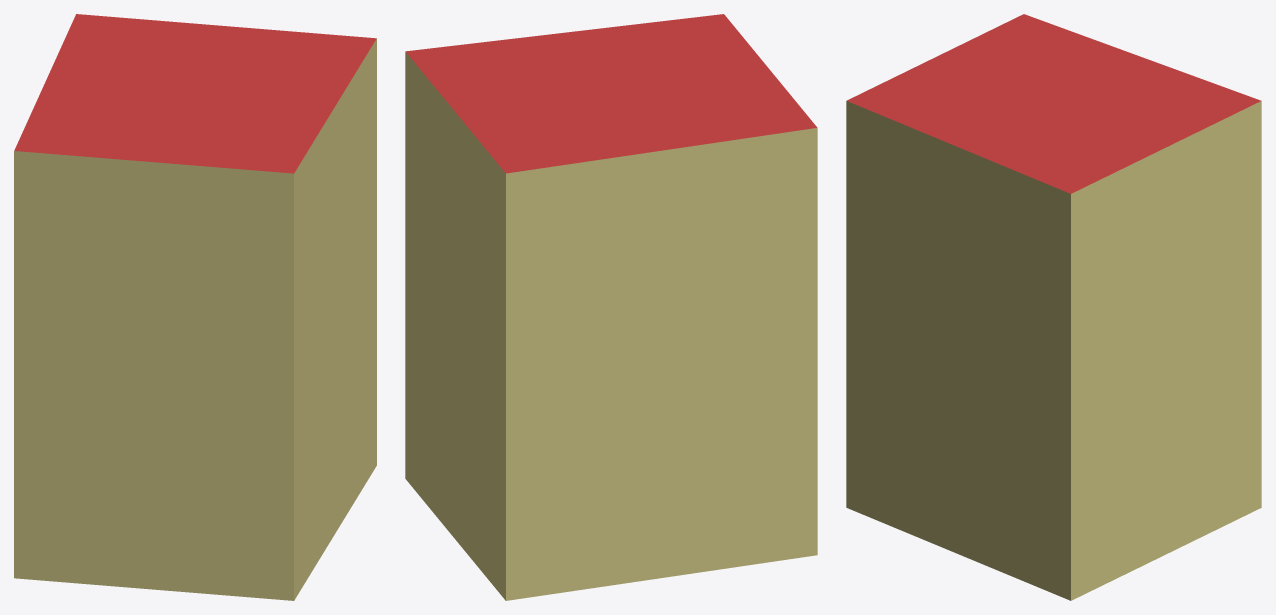
3 renders of one model, left to right at view 1: azimuth 30°, elevation 25°; view 2: azimuth 150°, elevation 25°; view 3: azimuth 270°, elevation 25°, orthographic. The views are drawn at different scales.
Size of the model in its own units: 6.65 by 6.49 by 7.02.
